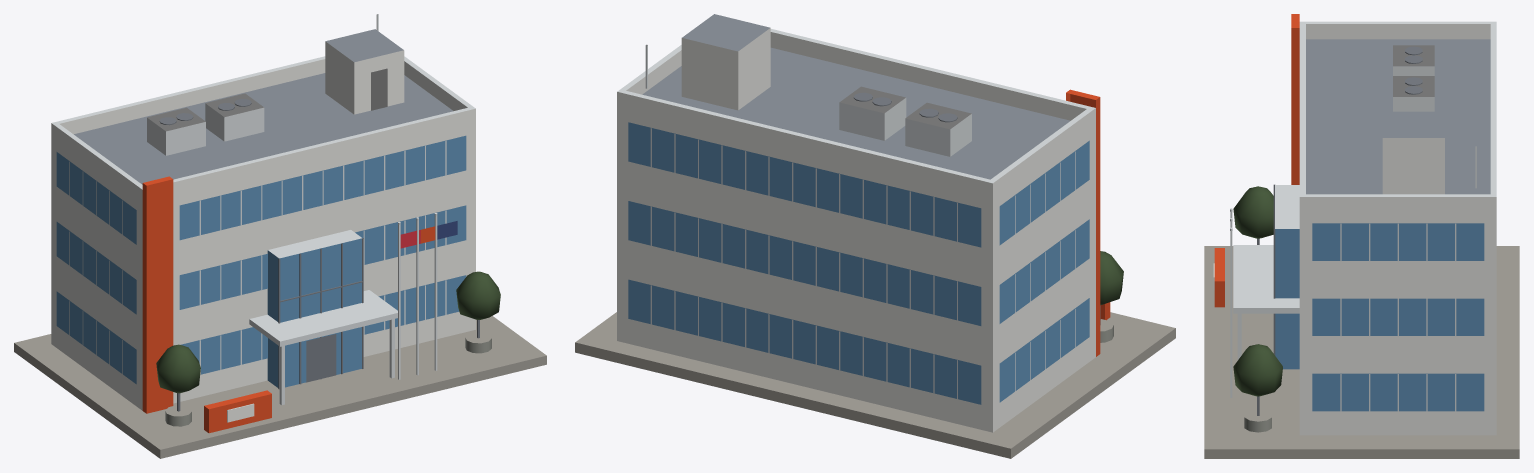
File: mashup-admin-top-prebuilt_close.fbx
3 renders of one model, left to right at view 1: azimuth 30°, elevation 25°; view 2: azimuth 150°, elevation 25°; view 3: azimuth 270°, elevation 25°, orthographic. The views are drawn at different scales.
Visible parts, largest first — view 1: a1082/0/mashup-admin-top-prebuilt_close; view 2: a1082/0/mashup-admin-top-prebuilt_close; view 3: a1082/0/mashup-admin-top-prebuilt_close.
Boxes of the visible parts, left/top/right/bottom form: a1082/0/mashup-admin-top-prebuilt_close: left=14, top=14, right=546, bottom=458; a1082/0/mashup-admin-top-prebuilt_close: left=575, top=14, right=1175, bottom=458; a1082/0/mashup-admin-top-prebuilt_close: left=1204, top=14, right=1519, bottom=458.
Size of the model in its own units: 23.2 by 15.4 by 15.2.
